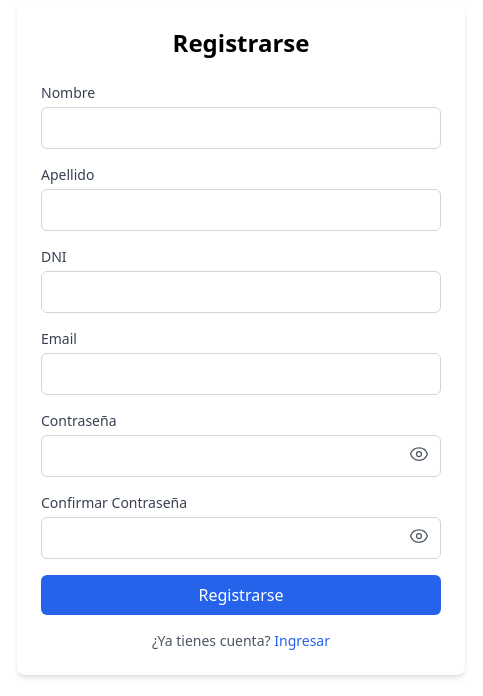
Test: RegisterForm › validates required fields on submit
Click the button "Registrarse" at (241,595), box [41,575,441,615]
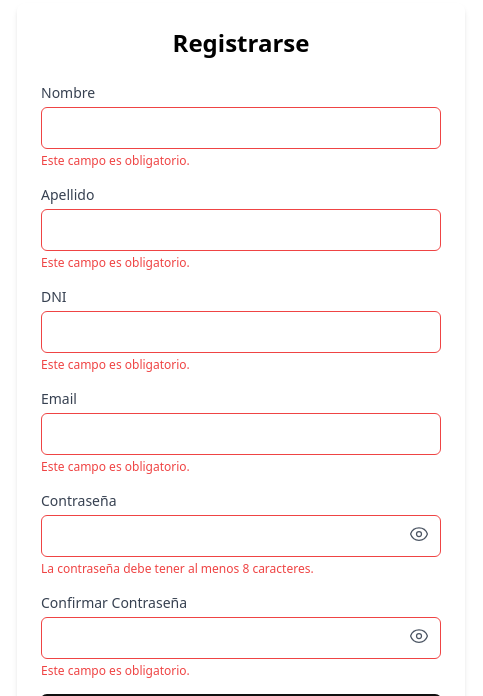
Expected: the text "Este campo es obligatorio." below "Nombre" is shown, [41,152,190,169]
